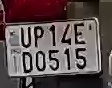0: (34, 52, 47, 73)
1: (47, 24, 59, 48), (62, 46, 72, 72)
4: (58, 21, 72, 46)
5: (72, 46, 90, 70), (47, 49, 61, 70)
D: (19, 50, 34, 74)
E: (72, 21, 89, 45)
P: (33, 24, 45, 50)
U: (20, 25, 32, 51)
